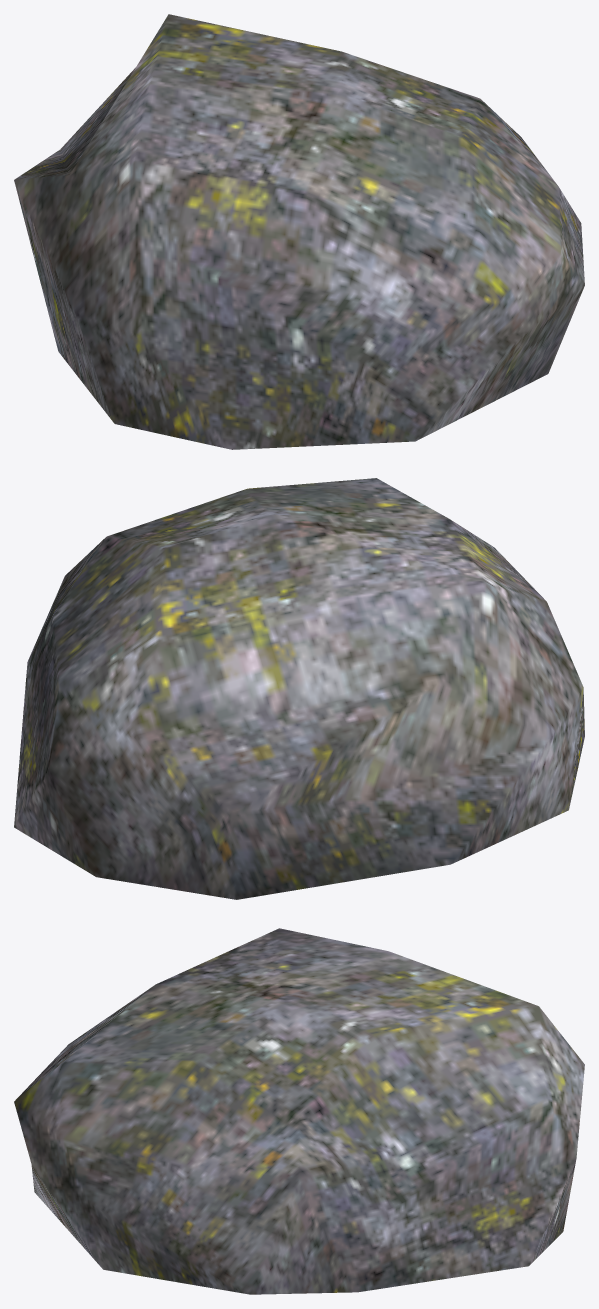
The model's file is rock_weatheredmossy_medium_l0.fbx.
3 views of the same model, one above another, from view 1: azimuth 30°, elevation 25°; view 2: azimuth 150°, elevation 25°; view 3: azimuth 270°, elevation 25° (orthographic). The views are drawn at different scales.
Parts seen in each view (by area): view 1: mesh_node; view 2: mesh_node; view 3: mesh_node.
Boxes of the visible parts, left/top/right/bottom form: mesh_node: left=14, top=14, right=584, bottom=449; mesh_node: left=14, top=478, right=584, bottom=899; mesh_node: left=14, top=928, right=584, bottom=1294.
Bounding box in the file's own units: 0.4109 × 0.2082 × 0.483.
1 material, 1 textured.
